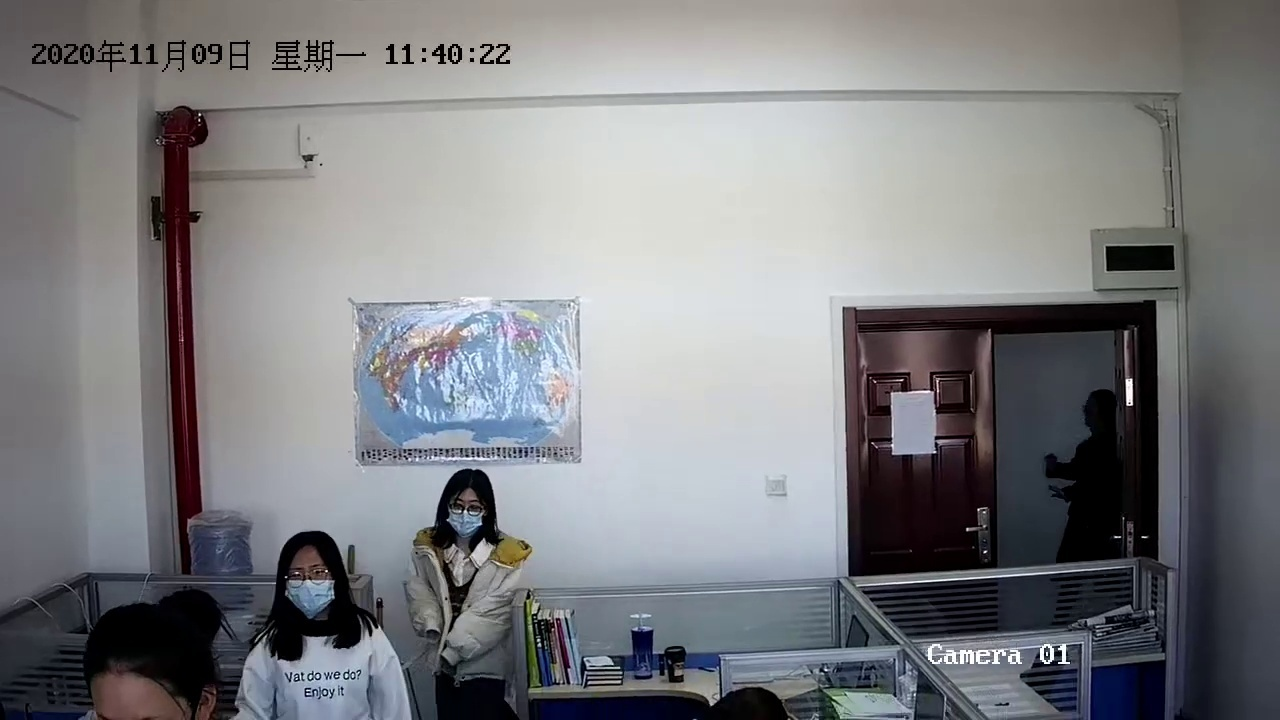mask: (280, 532, 349, 622), (439, 474, 499, 542)
